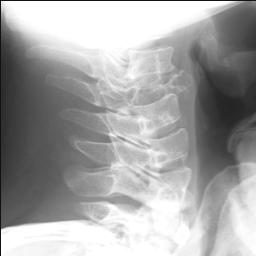cancer: (118, 71, 193, 107)
